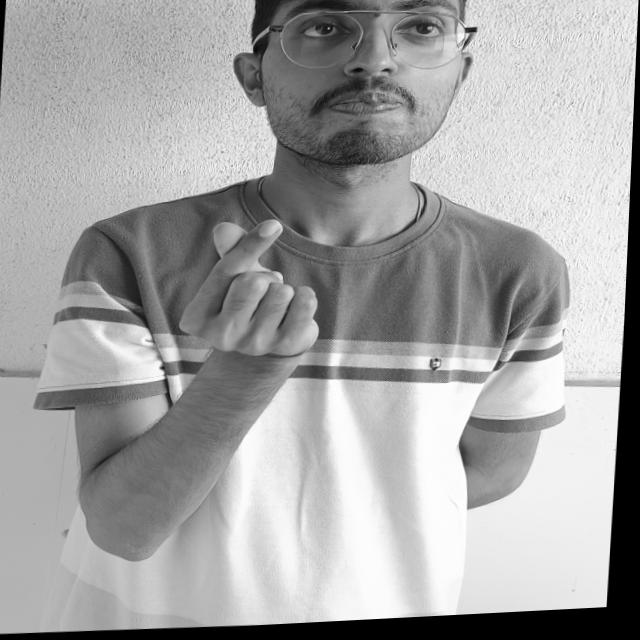Grattitude: (162, 202, 352, 386)
